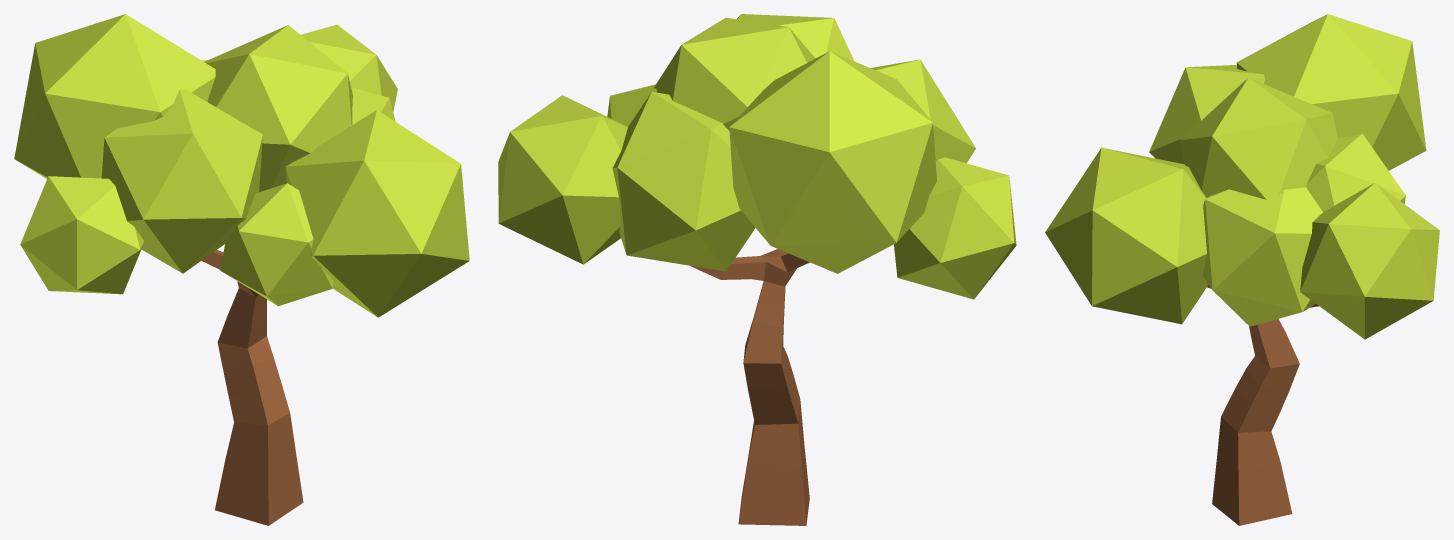
The model's file is tree gemischt farbe.fbx.
The picture shows the model from 3 angles, left to right: view 1: azimuth 30°, elevation 25°; view 2: azimuth 150°, elevation 25°; view 3: azimuth 270°, elevation 25°; orthographic projection. The views are drawn at different scales.
Parts seen in each view (by area): view 1: Icosphere.018, Cube.002; view 2: Icosphere.018, Cube.002; view 3: Icosphere.018, Cube.002.
Boxes of the visible parts, x1=… form: Icosphere.018: x1=14, y1=14, x2=469, y2=317; Cube.002: x1=201, y1=250, x2=303, y2=525; Icosphere.018: x1=498, y1=14, x2=1016, y2=299; Cube.002: x1=690, y1=249, x2=809, y2=525; Icosphere.018: x1=1045, y1=14, x2=1439, y2=339; Cube.002: x1=1207, y1=285, x2=1318, y2=525.
Bounding box in the file's own units: 563 × 606 × 478.
